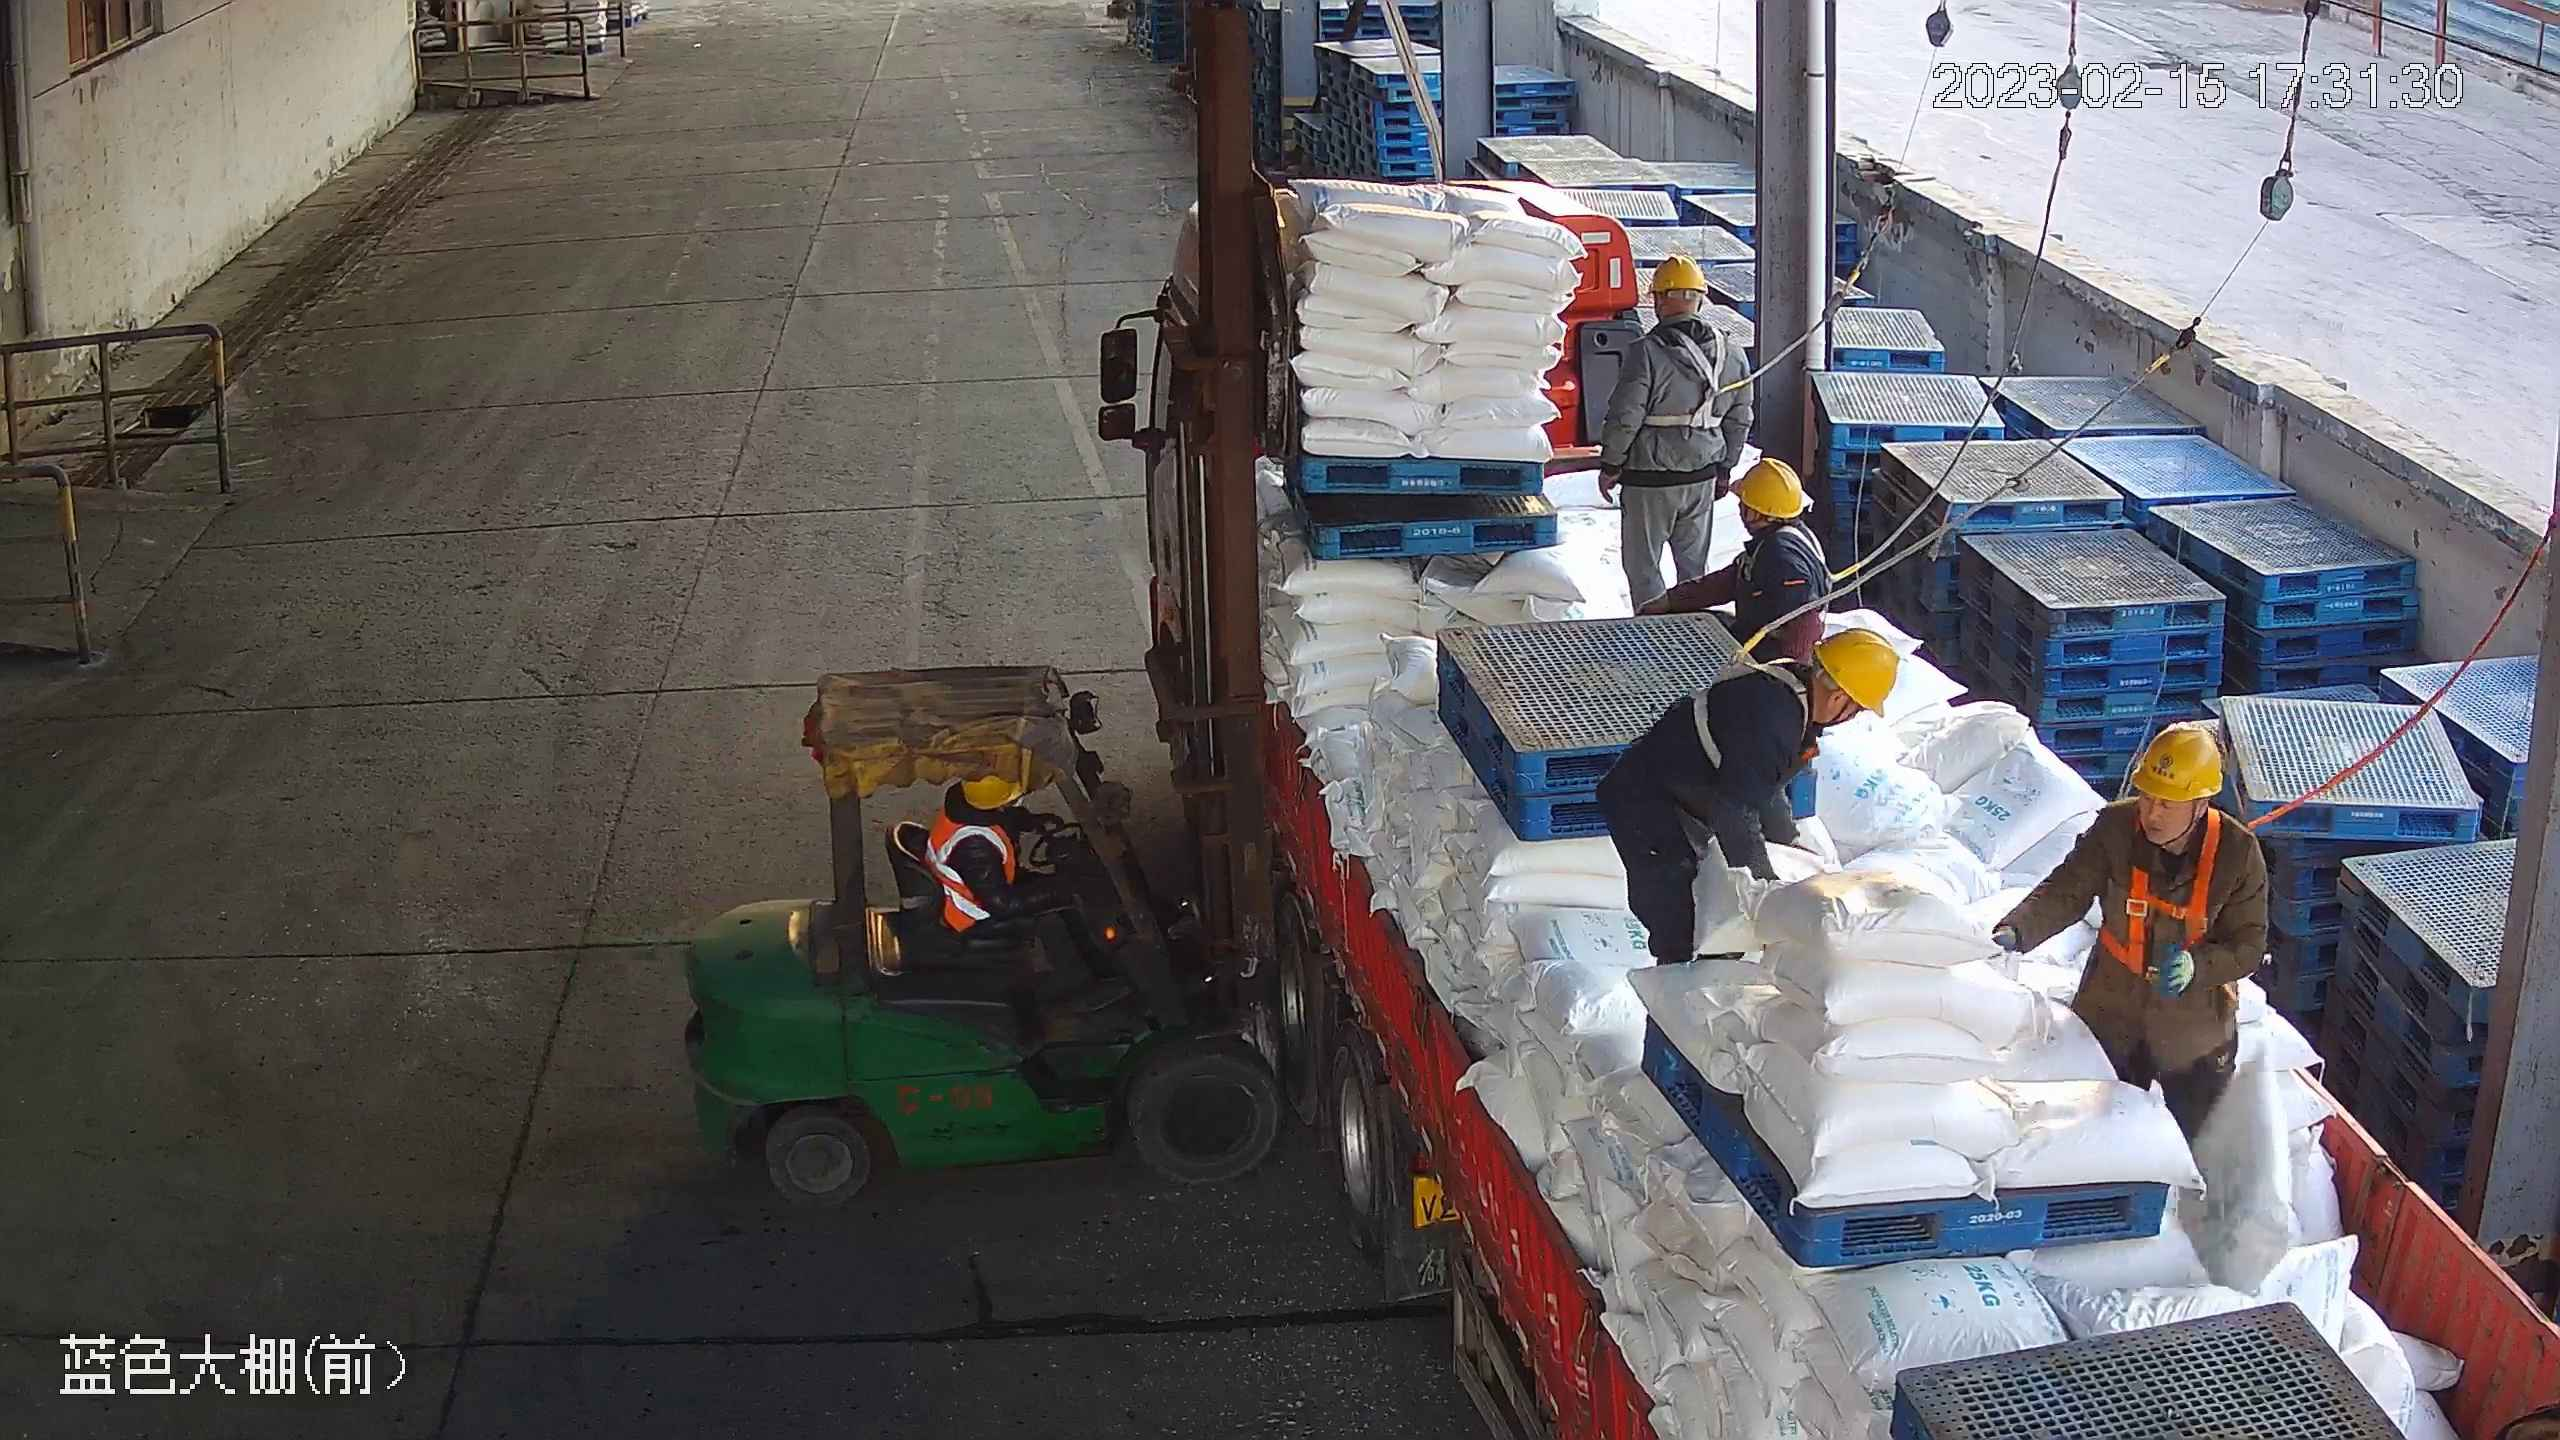belt: (2081, 800, 2252, 1004), (1667, 644, 1816, 781), (1646, 316, 1742, 436), (1771, 516, 1848, 642)
head: (2103, 714, 2252, 932), (1707, 626, 1903, 791), (1624, 249, 1744, 381), (1722, 453, 1826, 589)
helmet: (2126, 718, 2232, 804), (1812, 622, 1899, 720), (1728, 457, 1807, 524), (1648, 253, 1710, 302)
people: (2012, 710, 2277, 1140), (1595, 626, 1901, 979), (910, 767, 1152, 1002), (1610, 244, 1758, 612)
truck: (1134, 169, 2560, 1440)
